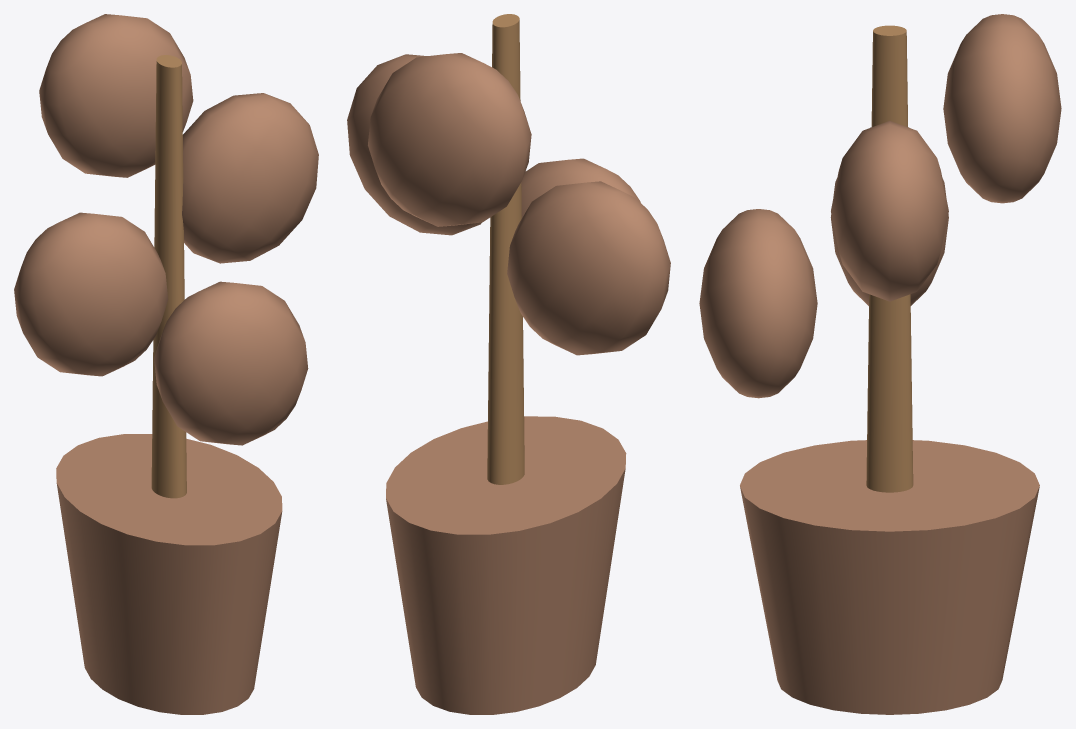
The model's file is plant.glb.
The picture shows the model from 3 angles, left to right: view 1: azimuth 30°, elevation 25°; view 2: azimuth 150°, elevation 25°; view 3: azimuth 270°, elevation 25°; orthographic projection. The views are drawn at different scales.
Parts seen in each view (by area): view 1: poc-plant-part-105, poc-plant-part-110, poc-plant-part-107, poc-plant-part-108, poc-plant-part-109, poc-plant-part-106; view 2: poc-plant-part-105, poc-plant-part-107, poc-plant-part-109, poc-plant-part-106, poc-plant-part-108, poc-plant-part-110; view 3: poc-plant-part-105, poc-plant-part-109, poc-plant-part-110, poc-plant-part-108, poc-plant-part-106, poc-plant-part-107.
Part boxes in pixels (<box>): poc-plant-part-105: <box>56,434,282,714</box>; poc-plant-part-110: <box>154,281,308,445</box>; poc-plant-part-107: <box>14,212,168,376</box>; poc-plant-part-108: <box>182,93,318,263</box>; poc-plant-part-109: <box>39,14,193,177</box>; poc-plant-part-106: <box>151,55,186,498</box>; poc-plant-part-105: <box>386,416,626,714</box>; poc-plant-part-107: <box>507,181,670,355</box>; poc-plant-part-109: <box>368,53,531,226</box>; poc-plant-part-106: <box>487,14,524,484</box>; poc-plant-part-108: <box>347,54,481,235</box>; poc-plant-part-110: <box>521,158,640,217</box>; poc-plant-part-105: <box>740,440,1039,714</box>; poc-plant-part-109: <box>943,14,1061,203</box>; poc-plant-part-110: <box>699,209,817,398</box>; poc-plant-part-108: <box>831,121,948,301</box>; poc-plant-part-106: <box>866,25,913,492</box>; poc-plant-part-107: <box>830,127,948,305</box>.
Size of the model in its own units: 0.5 by 1 by 0.5.
